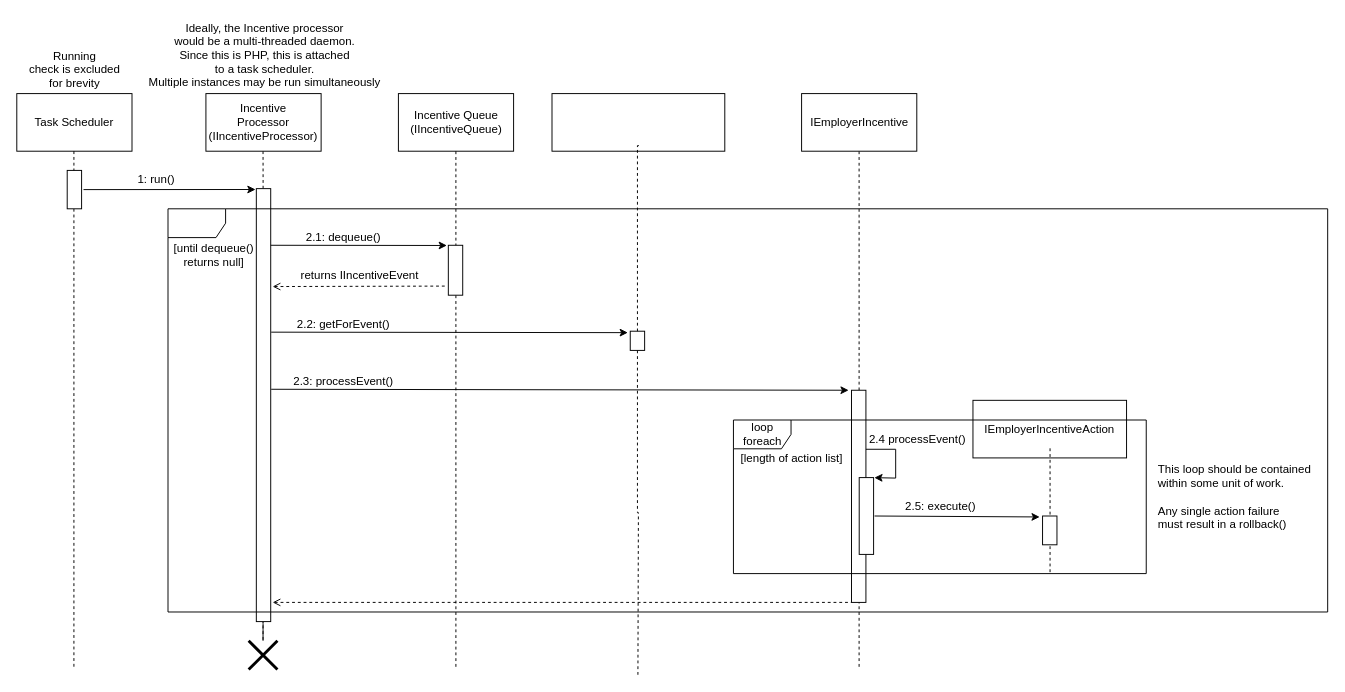
Some shapes in this 1345 by 692 pixel diagram are drawn without their labels. Here are the shapes that lost their labels. From the top down, the box of each, then its label:
(551, 93, 725, 151): Employer Incentive Repository (IEmployerIncentiveRepository)
(167, 208, 1328, 612): loop
